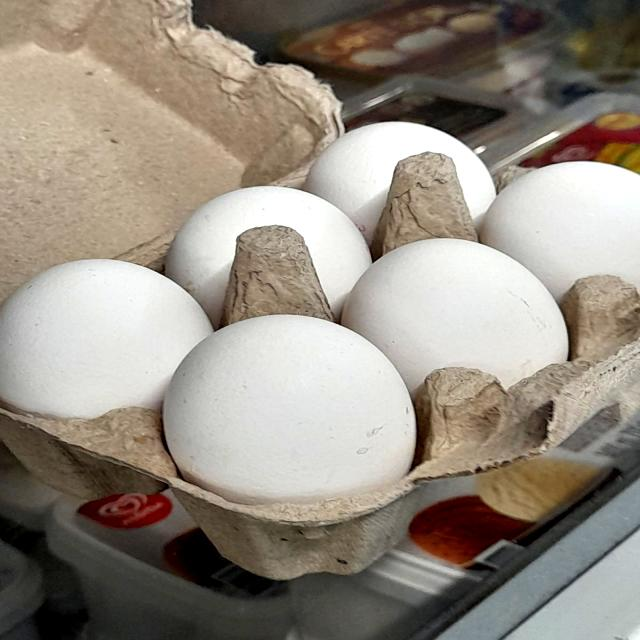egg: (153, 310, 430, 525), (0, 239, 209, 441), (350, 227, 582, 404)
